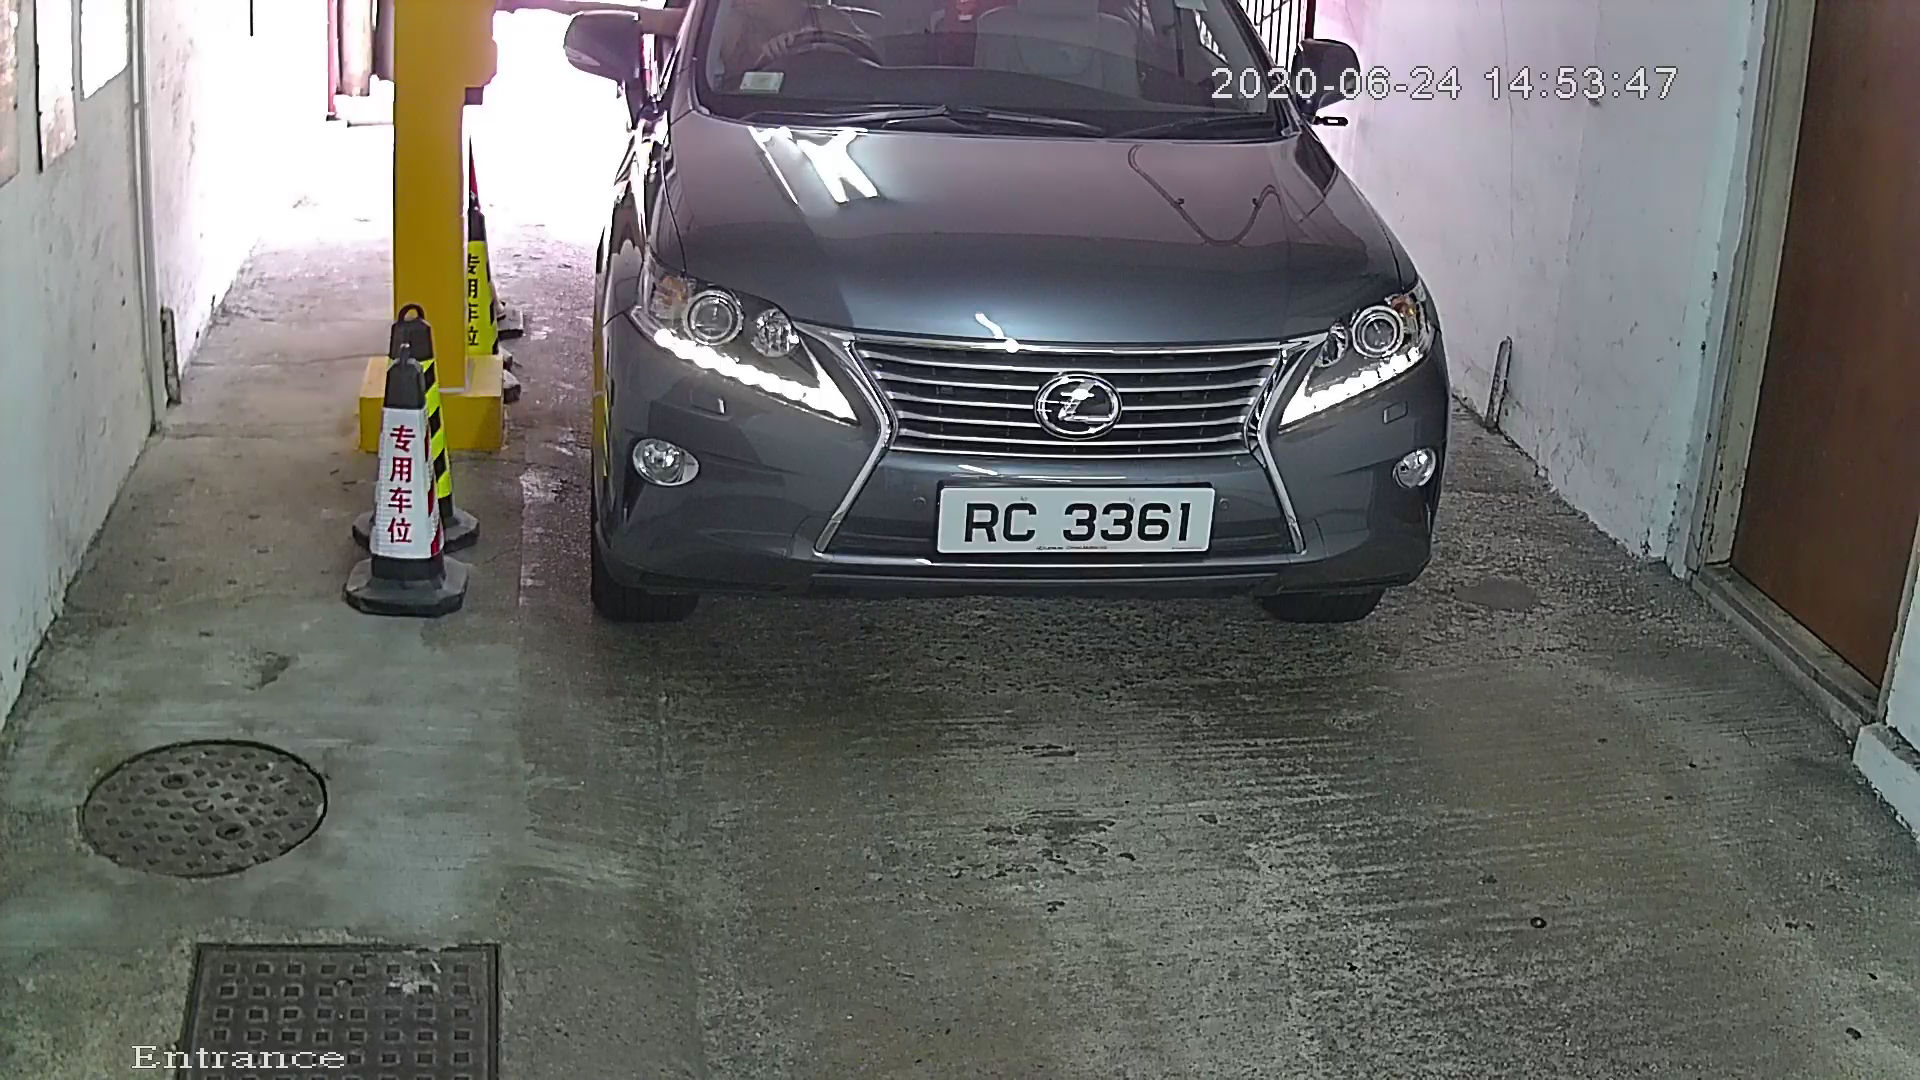Car: (546, 1, 1508, 680)
License Plate: (920, 474, 1222, 572)
